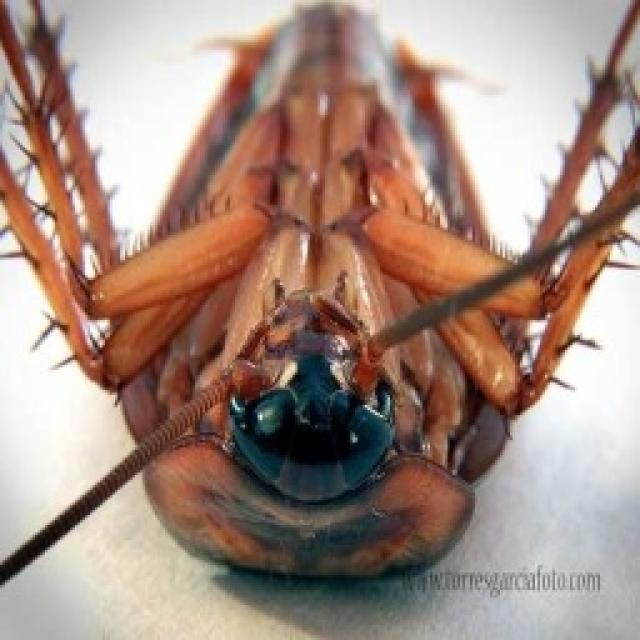cockroach: (0, 6, 639, 586)
